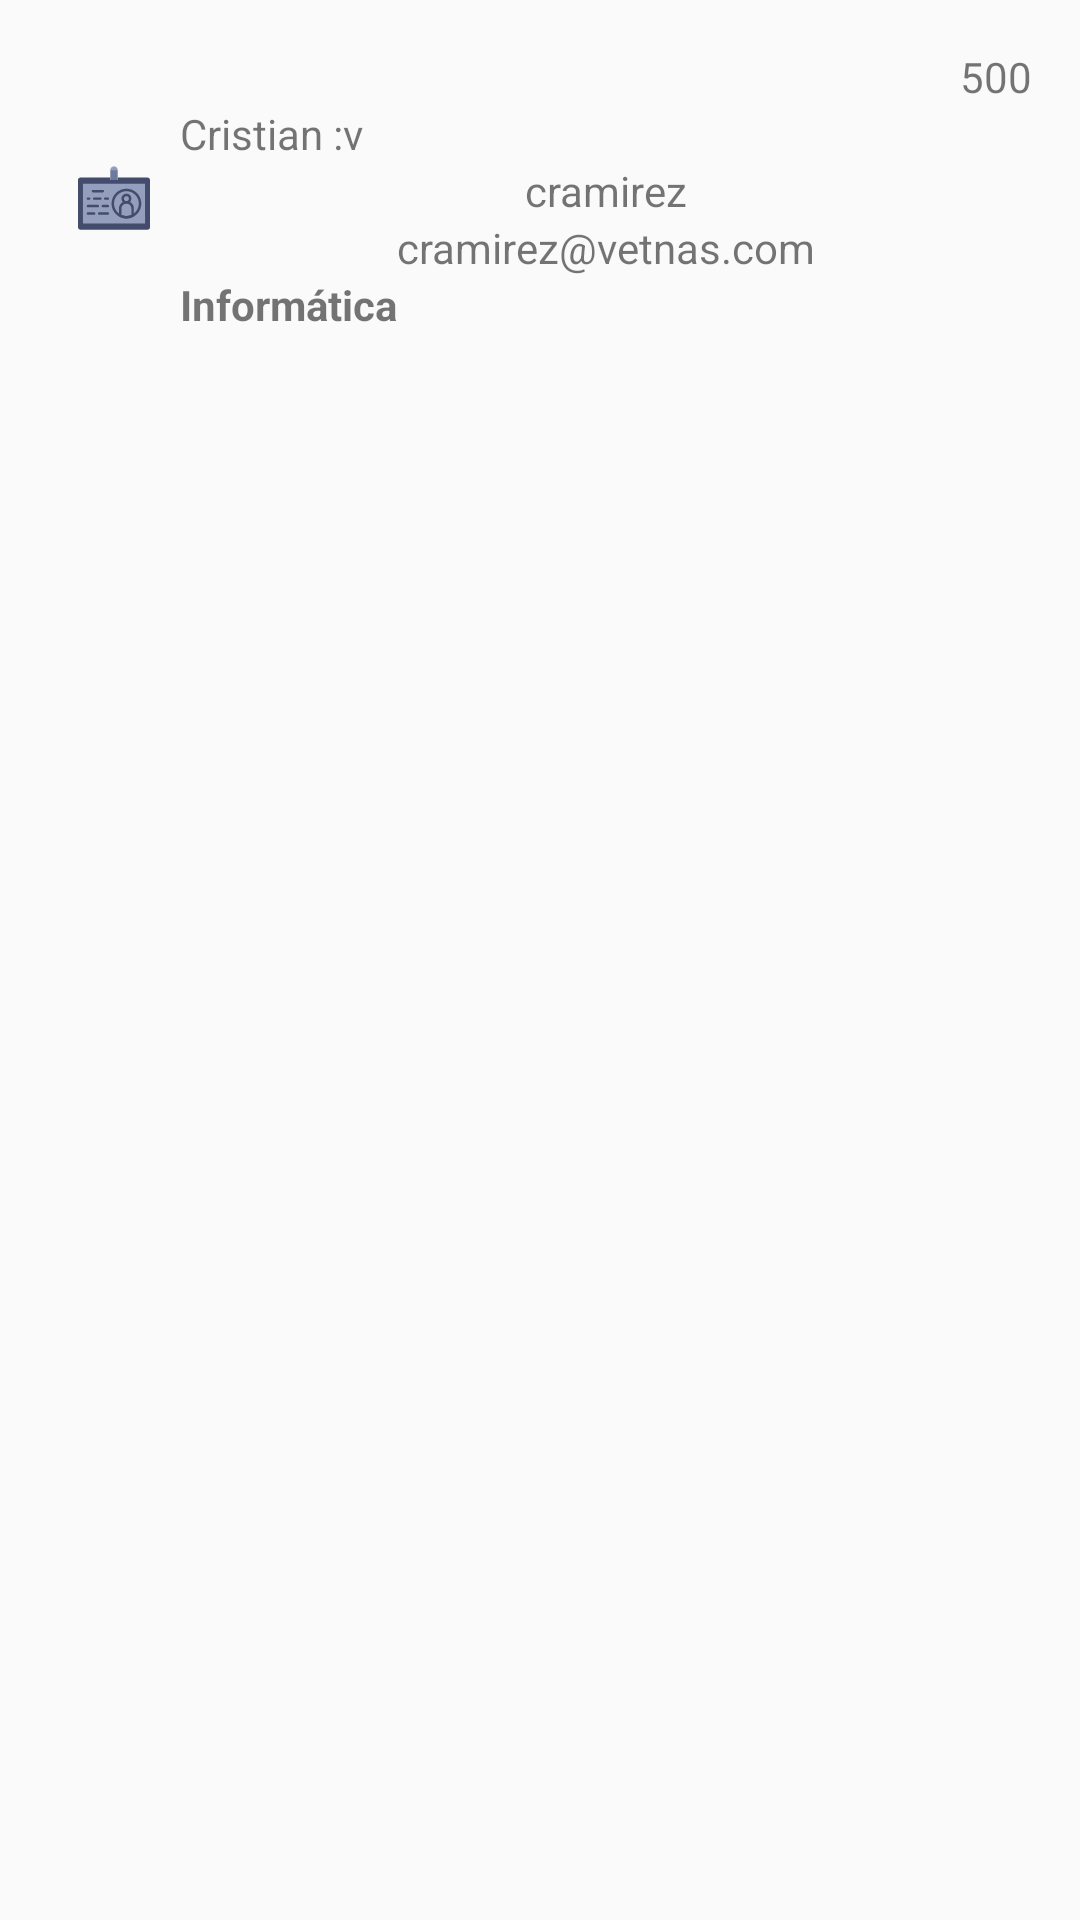

Where to tap for icons on this 1080 x 1920 app screen, as (x=x, y=y):
carnet de identidad: (x=114, y=198)
